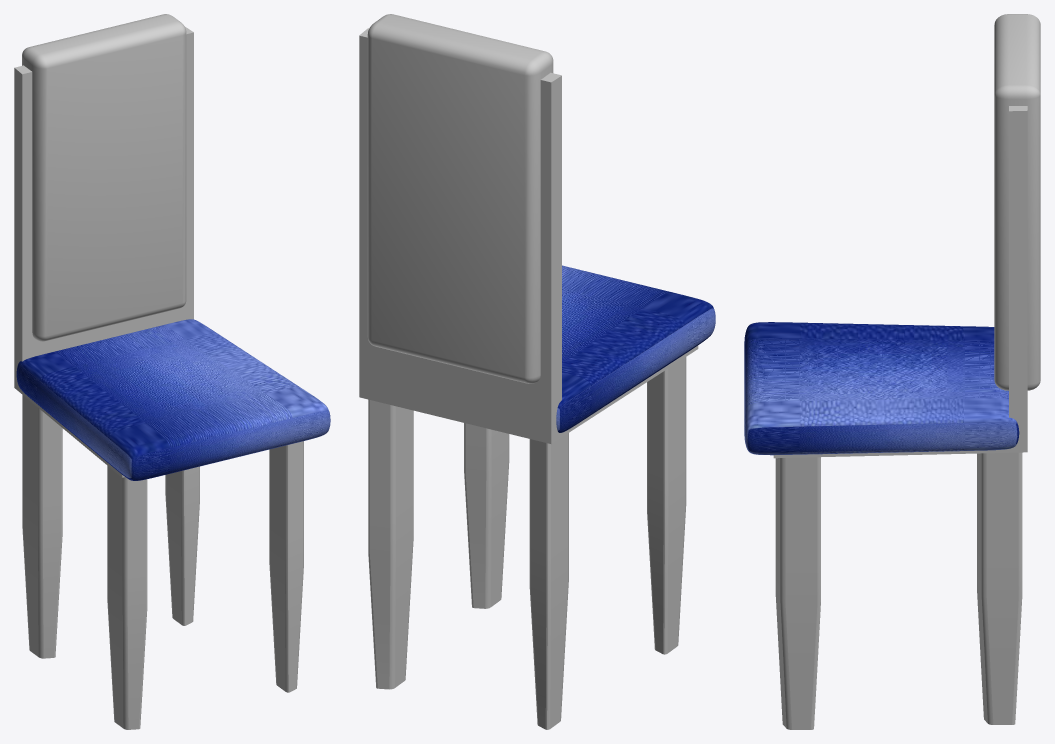
The model's file is Silla.fbx.
3 renders of one model, left to right at view 1: azimuth 30°, elevation 25°; view 2: azimuth 150°, elevation 25°; view 3: azimuth 270°, elevation 25°, orthographic. The views are drawn at different scales.
Visible parts, largest first — view 1: respaldar, silla, Asiento; view 2: silla, respaldar, Asiento; view 3: Asiento, silla, respaldar.
Boxes of the visible parts, x1,y1,x2,y2 form: respaldar: (22, 14, 186, 341); silla: (14, 27, 303, 729); Asiento: (16, 319, 330, 480); silla: (359, 28, 698, 729); respaldar: (367, 14, 553, 383); Asiento: (556, 265, 715, 432); Asiento: (744, 322, 1019, 455); silla: (773, 106, 1027, 729); respaldar: (994, 14, 1040, 390).
Size of the model in its own units: 3.56 by 10.04 by 4.25.
